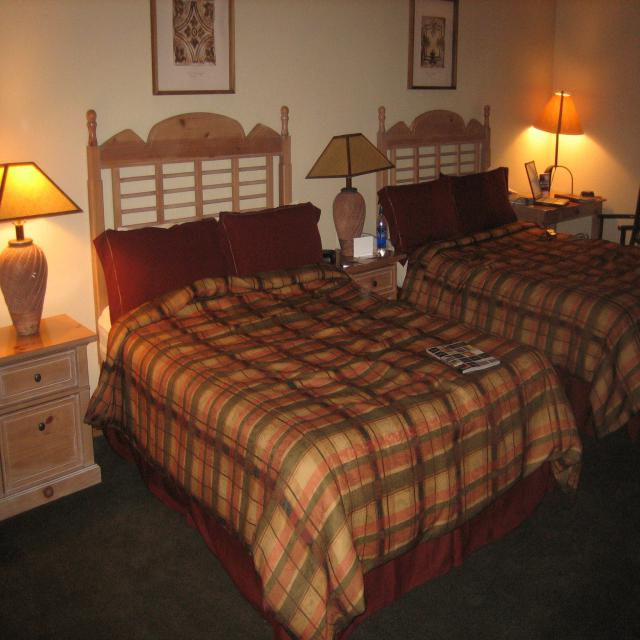bed -occluded-: (89, 108, 582, 639), (379, 107, 638, 436)
floor -X: (0, 305, 640, 640)
lamp crop: (0, 162, 82, 335), (305, 132, 396, 255)
laptop occluded: (524, 159, 571, 208)
magazine holder: (426, 341, 499, 373)
painting crop: (407, 0, 459, 89)
picture occluded: (150, 0, 236, 94)
side: (1, 312, 103, 522)
wall clock: (0, 0, 557, 460), (543, 2, 640, 324)
